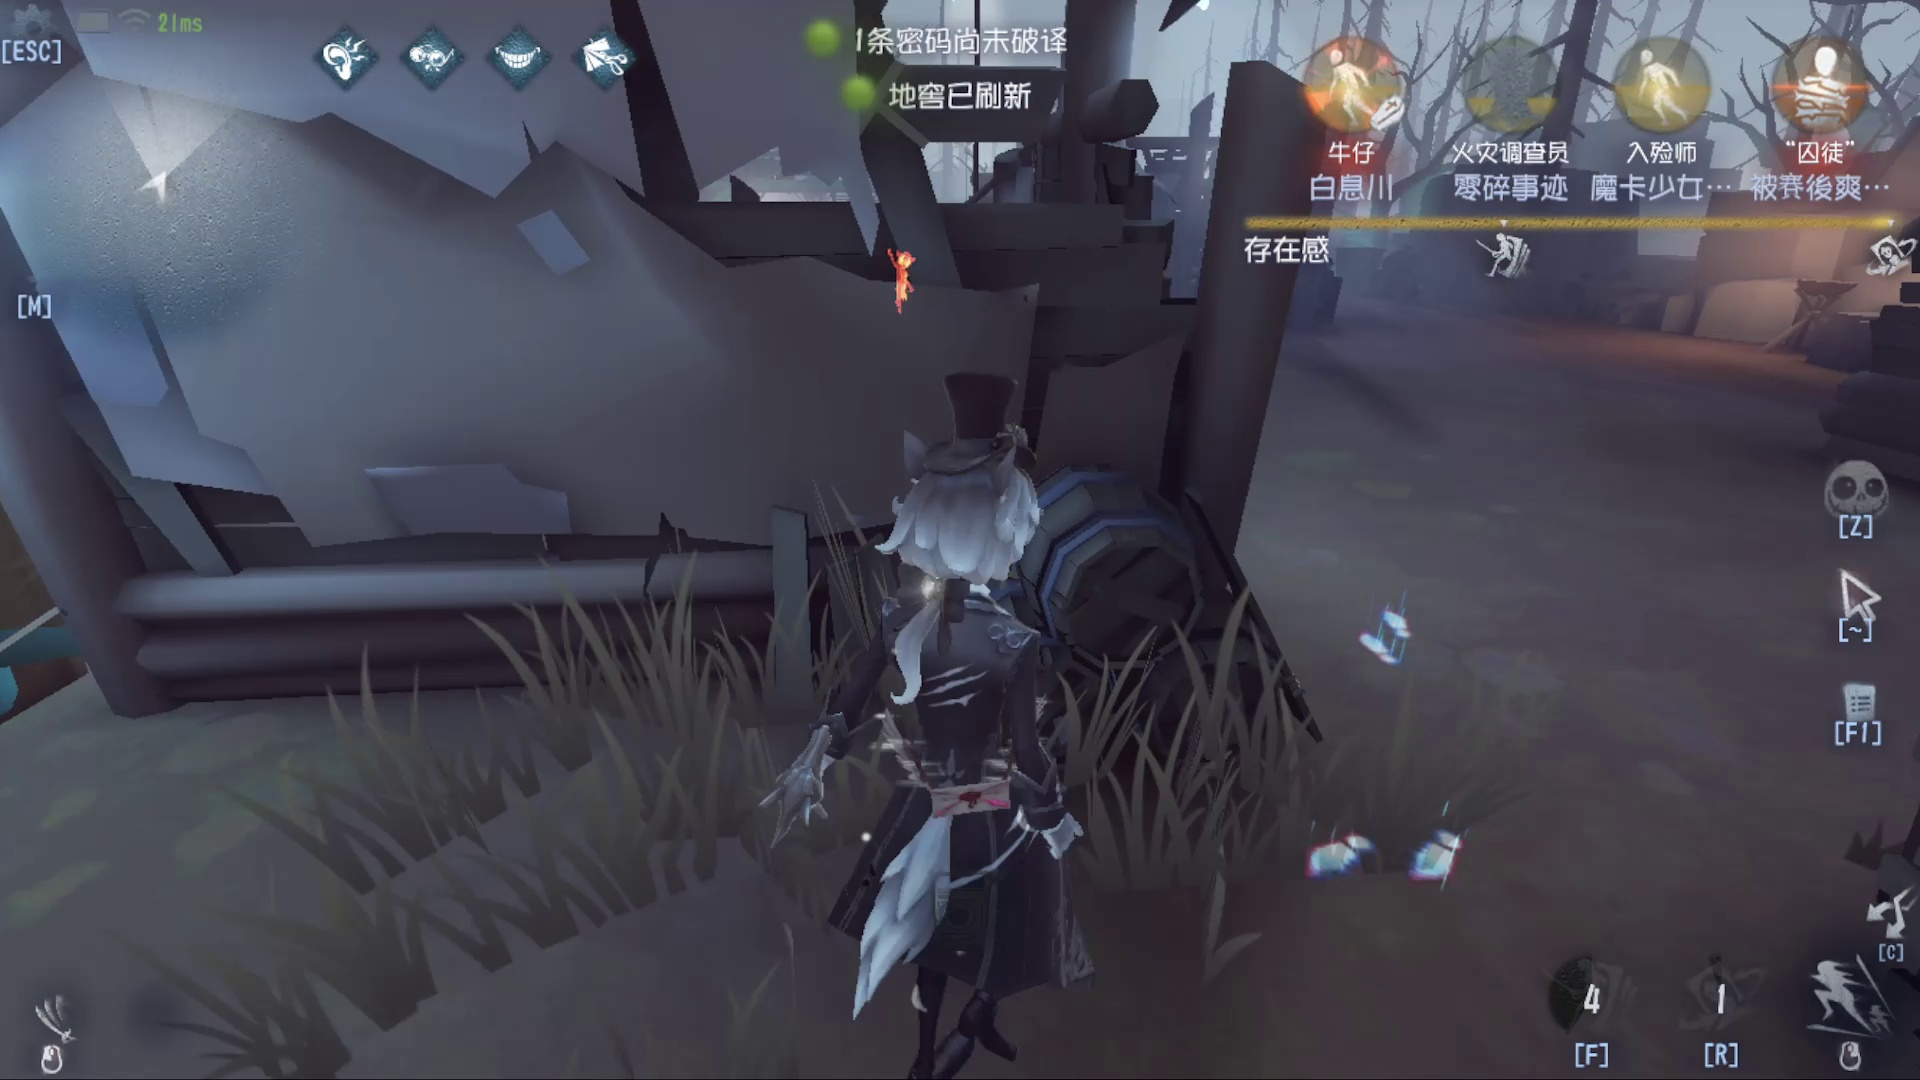求生者: (861, 233, 932, 322)
